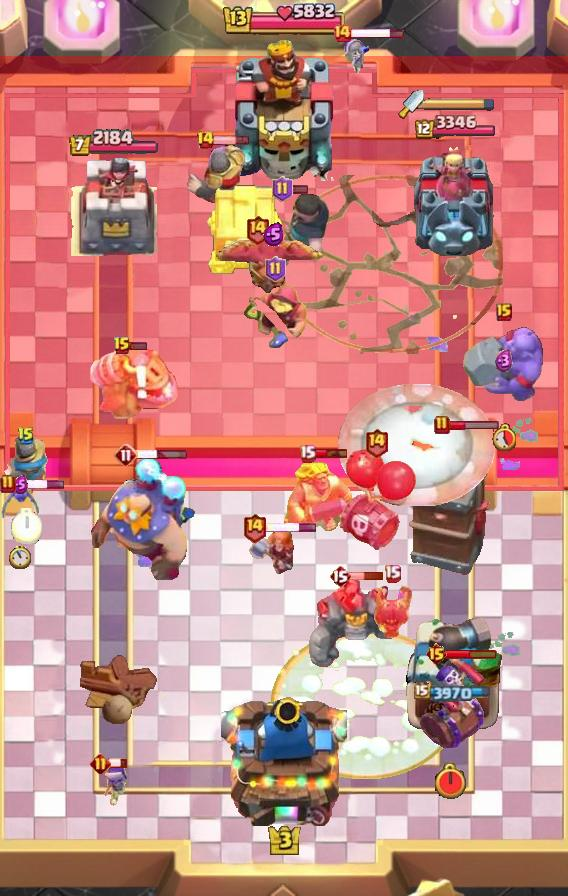archer-queen: (460, 326, 548, 406)
bar: (409, 142, 497, 256)
barbarian: (0, 482, 44, 522)
bomb: (205, 182, 285, 276)
cannoneer-tower: (305, 574, 401, 670)
clock: (221, 0, 347, 40)
dart-goblin: (407, 421, 497, 577)
electro-spirit: (263, 222, 284, 247), (495, 349, 513, 373), (12, 475, 27, 494)
elixir: (432, 763, 467, 802), (11, 508, 42, 545), (492, 423, 516, 451), (9, 545, 31, 569)
emote: (351, 27, 406, 40), (446, 648, 499, 660), (14, 479, 67, 490), (266, 523, 319, 534), (448, 420, 500, 431), (136, 448, 188, 459), (214, 134, 251, 146), (313, 447, 349, 459), (348, 571, 383, 581), (108, 757, 128, 769), (290, 185, 310, 196), (129, 341, 148, 351)
fireball: (241, 284, 309, 350)
firecracker: (186, 143, 247, 205), (2, 435, 50, 496)
goblin: (100, 764, 130, 806), (344, 38, 370, 76)
goblin-hut: (280, 458, 354, 536)
golden-knight: (371, 582, 413, 642)
guard: (279, 175, 503, 354)
hog-rider: (246, 527, 296, 575)
king-tower: (221, 690, 347, 826), (228, 35, 340, 181)
king-tower-bar: (424, 97, 496, 111)
little-prince: (89, 456, 197, 582)
mother-witch: (216, 227, 330, 295)
night-witch: (88, 345, 182, 419)
phoenix-big: (272, 629, 460, 778)
queen-tower: (71, 156, 157, 256)
royal-hog: (264, 193, 332, 269)
royal-recruit-evolution: (335, 448, 417, 554)
selected: (68, 129, 160, 158), (413, 115, 496, 141), (414, 682, 494, 702)
skeleton-king-bar: (415, 652, 485, 752)
text: (245, 214, 270, 245), (364, 427, 389, 458), (241, 513, 266, 544), (114, 443, 138, 467), (425, 642, 448, 666), (272, 176, 293, 202), (265, 256, 286, 282), (329, 564, 351, 588), (89, 754, 110, 775), (332, 23, 352, 43), (196, 130, 216, 150), (113, 336, 131, 356), (17, 426, 35, 446), (383, 565, 401, 583), (299, 444, 316, 463), (434, 415, 450, 435), (0, 474, 16, 494), (496, 303, 512, 321)
tower-bar: (402, 615, 504, 731)
wall-breaker: (338, 384, 496, 506)
